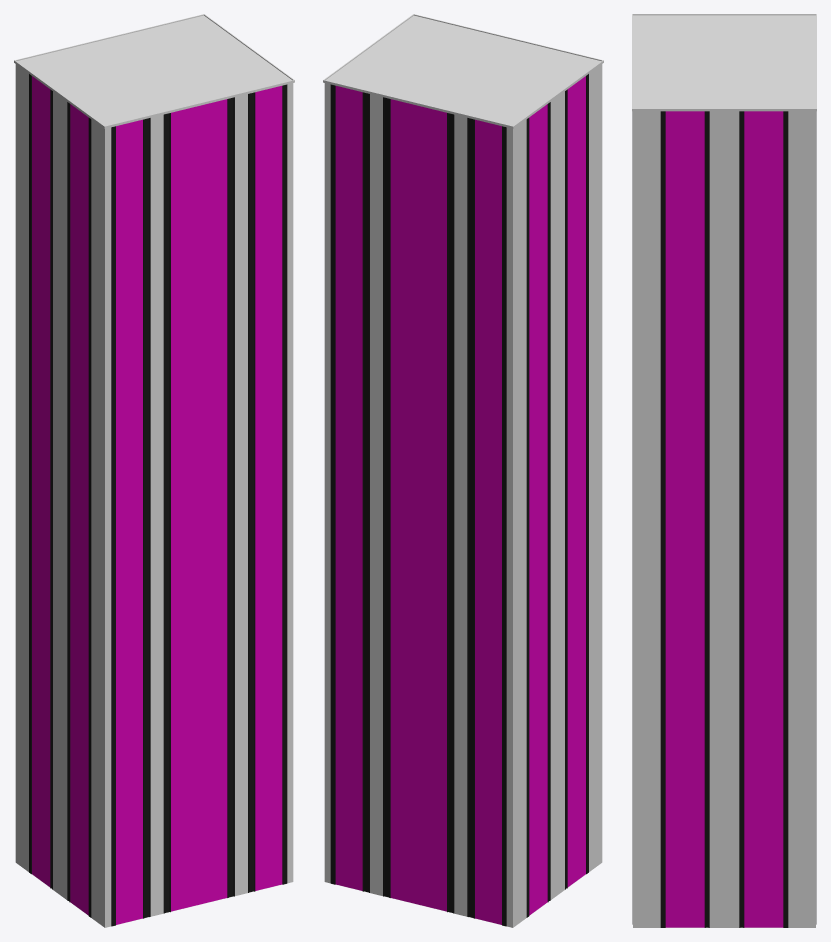
3 renders of one model, left to right at view 1: azimuth 30°, elevation 25°; view 2: azimuth 150°, elevation 25°; view 3: azimuth 270°, elevation 25°, orthographic. The views are drawn at different scales.
Parts seen in each view (by area): view 1: gb2_mesh.002; view 2: gb2_mesh.002; view 3: gb2_mesh.002.
Boxes of the visible parts, x1,y1,x2,y2 form: gb2_mesh.002: (14,14,294,927); gb2_mesh.002: (323,14,603,927); gb2_mesh.002: (632,14,816,927).
Bounding box in the file's own units: 4347 × 17500 × 3579.
